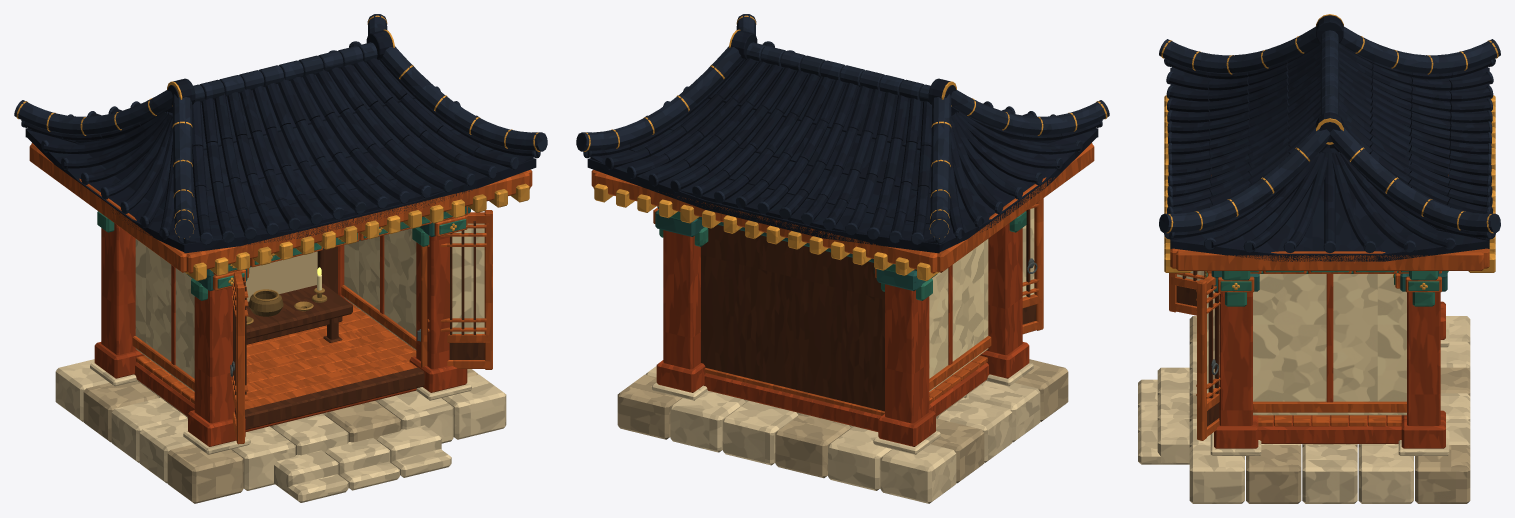
File: Test_Cheon_MountainSpiritShrine.fbx
3 renders of one model, left to right at view 1: azimuth 30°, elevation 25°; view 2: azimuth 150°, elevation 25°; view 3: azimuth 270°, elevation 25°, orthographic.
Parts seen in each view (by area): view 1: Shrine_SideHanji, Shrine_SideHanji.001, Shrine_Pillar_Post, Shrine_Pillar_Post.001, ShrineRoof_EaveFascia, ShrineRoof_Front_UnderRoof, Shrine_FrontSill, ShrineRoof_HipSide_-1, Shrine_Stone_0_0, ShrineRoof_Front_HipRoll_1, Shrine_Pillar_Post.002, ShrineRoof_Back_HipRoll_-1 (+46 smaller); view 2: Shrine_BackWall, Shrine_Pillar_Post.001, Shrine_SideHanji, Shrine_Pillar_Post.003, ShrineRoof_Back_UnderRoof, Shrine_Pillar_Post, Shrine_FloorSupport, ShrineRoof_HipSide_-1, Shrine_Stone_0_4, ShrineRoof_Back_HipRoll_1, ShrineRoof_EaveFascia.001, Shrine_Stone_3_4 (+27 smaller); view 3: Shrine_SideHanji.001, ShrineRoof_HipSide_1, ShrineRoof_SideFascia.001, Shrine_Pillar_Post.003, Shrine_Pillar_Post.002, ShrineRoof_Front_HipRoll_1, ShrineRoof_Back_HipRoll_1, Shrine_Stone_5_2, Shrine_Stone_5_1, Shrine_Stone_5_3, ShrineRoof_Back_HipRoll_-1, ShrineRoof_Front_HipRoll_-1 (+57 smaller).
Boxes of the visible parts, x1,y1,x2,y2 form: Shrine_SideHanji: [135, 239, 194, 391]; Shrine_SideHanji.001: [344, 228, 416, 350]; Shrine_Pillar_Post: [194, 287, 234, 423]; Shrine_Pillar_Post.001: [101, 223, 137, 354]; ShrineRoof_EaveFascia: [186, 171, 530, 273]; ShrineRoof_Front_UnderRoof: [184, 129, 536, 253]; Shrine_FrontSill: [245, 367, 424, 429]; ShrineRoof_HipSide_-1: [25, 129, 184, 251]; Shrine_Stone_0_0: [167, 444, 243, 503]; ShrineRoof_Front_HipRoll_1: [375, 46, 547, 151]; Shrine_Pillar_Post.002: [416, 236, 449, 369]; ShrineRoof_Back_HipRoll_-1: [14, 90, 172, 135]; Shrine_BackWall: [701, 224, 884, 411]; Shrine_Pillar_Post.001: [885, 270, 929, 423]; Shrine_SideHanji: [929, 239, 988, 391]; Shrine_Pillar_Post.003: [663, 230, 700, 369]; ShrineRoof_Back_UnderRoof: [587, 129, 939, 253]; Shrine_Pillar_Post: [986, 223, 1022, 354]; Shrine_FloorSupport: [703, 362, 989, 431]; ShrineRoof_HipSide_-1: [939, 129, 1098, 251]; Shrine_Stone_0_4: [880, 444, 956, 503]; ShrineRoof_Back_HipRoll_1: [576, 46, 748, 151]; ShrineRoof_EaveFascia.001: [593, 171, 937, 273]; Shrine_Stone_3_4: [722, 401, 798, 465]; Shrine_SideHanji.001: [1253, 274, 1406, 415]; ShrineRoof_HipSide_1: [1170, 148, 1489, 261]; ShrineRoof_SideFascia.001: [1176, 249, 1483, 270]; Shrine_Pillar_Post.003: [1407, 292, 1440, 425]; Shrine_Pillar_Post.002: [1219, 292, 1252, 425]; ShrineRoof_Front_HipRoll_1: [1159, 127, 1329, 232]; ShrineRoof_Back_HipRoll_1: [1330, 127, 1500, 232]; Shrine_Stone_5_2: [1302, 445, 1357, 503]; Shrine_Stone_5_1: [1246, 445, 1301, 503]; Shrine_Stone_5_3: [1358, 445, 1413, 503]; ShrineRoof_Back_HipRoll_-1: [1335, 26, 1500, 73]; ShrineRoof_Front_HipRoll_-1: [1159, 26, 1324, 73].
Size of the model in its own units: 4.61 by 4.25 by 3.87.
